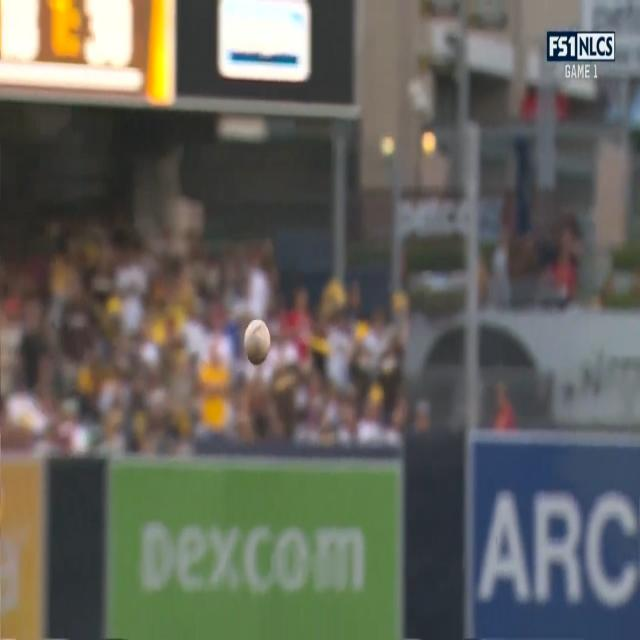baseball: (244, 318, 271, 366)
